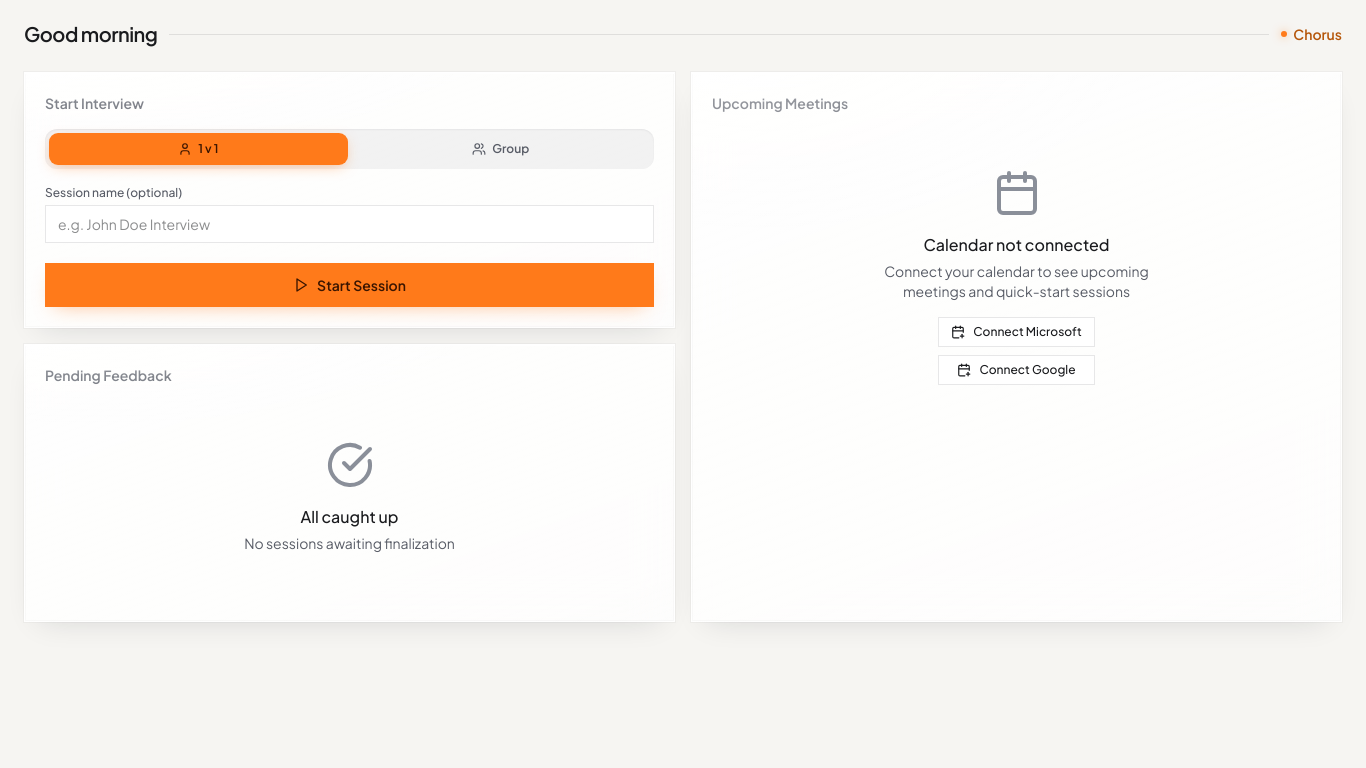
Test: HomeView › switches mode to Group when Group button is clicked
Click the button "Group": (501, 149) [352, 133, 650, 165]
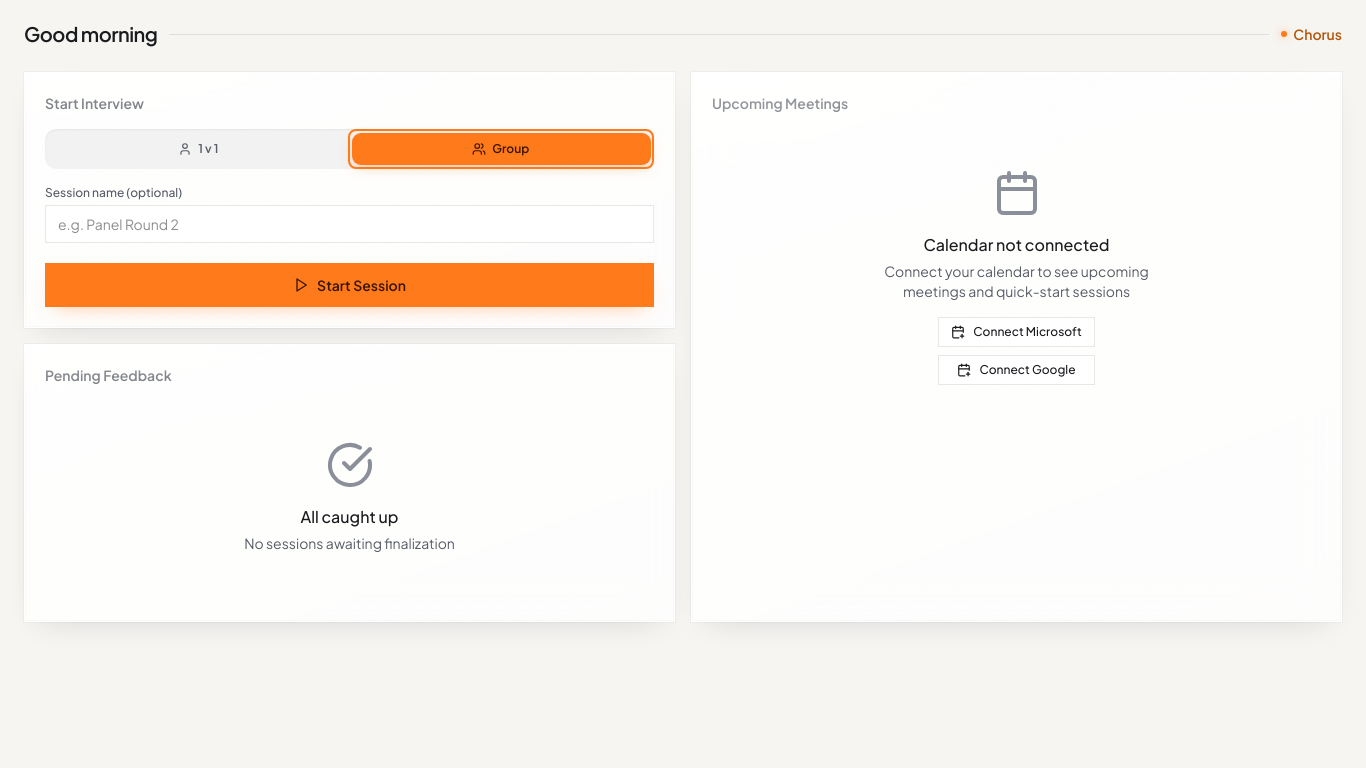
Expected: the field with placeholder "e.g. Panel Round 2" is shown, [45, 205, 654, 243]
